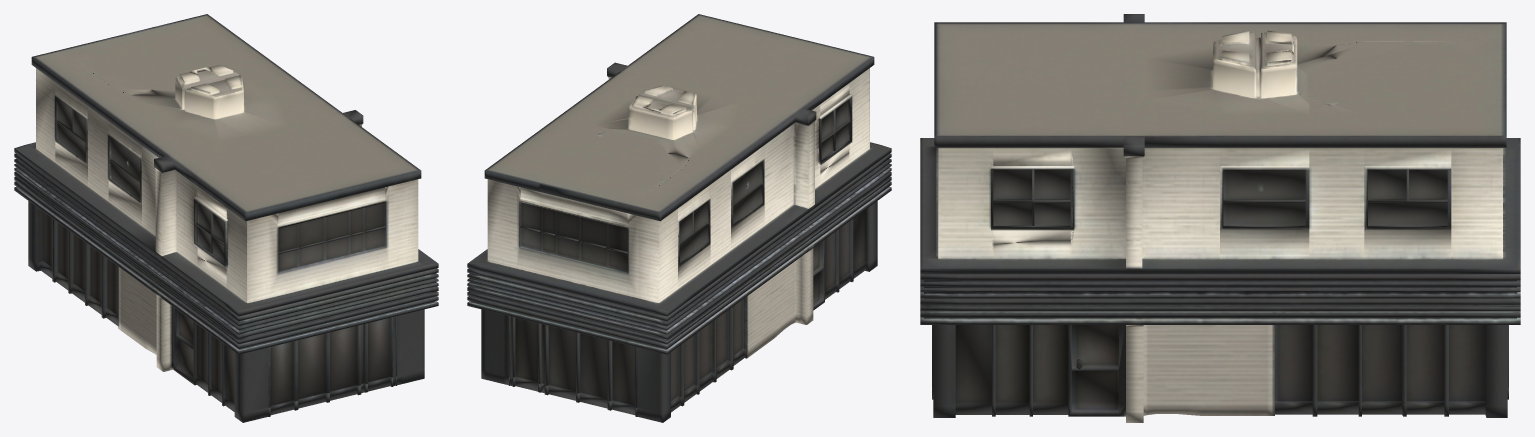
Rendered from tripo_convert_605e8a29-8f36-45fc-a86f-4bc0274e6216.fbx.
3 renders of one model, left to right at view 1: azimuth 30°, elevation 25°; view 2: azimuth 150°, elevation 25°; view 3: azimuth 270°, elevation 25°, orthographic. The views are drawn at different scales.
Parts seen in each view (by area): view 1: tripo_node_605e8a29; view 2: tripo_node_605e8a29; view 3: tripo_node_605e8a29.
Boxes of the visible parts, x1,y1,x2,y2 form: tripo_node_605e8a29: [14, 14, 438, 422]; tripo_node_605e8a29: [467, 14, 891, 422]; tripo_node_605e8a29: [920, 14, 1520, 422].
Bounding box in the file's own units: 0.5186 × 0.5734 × 1.
